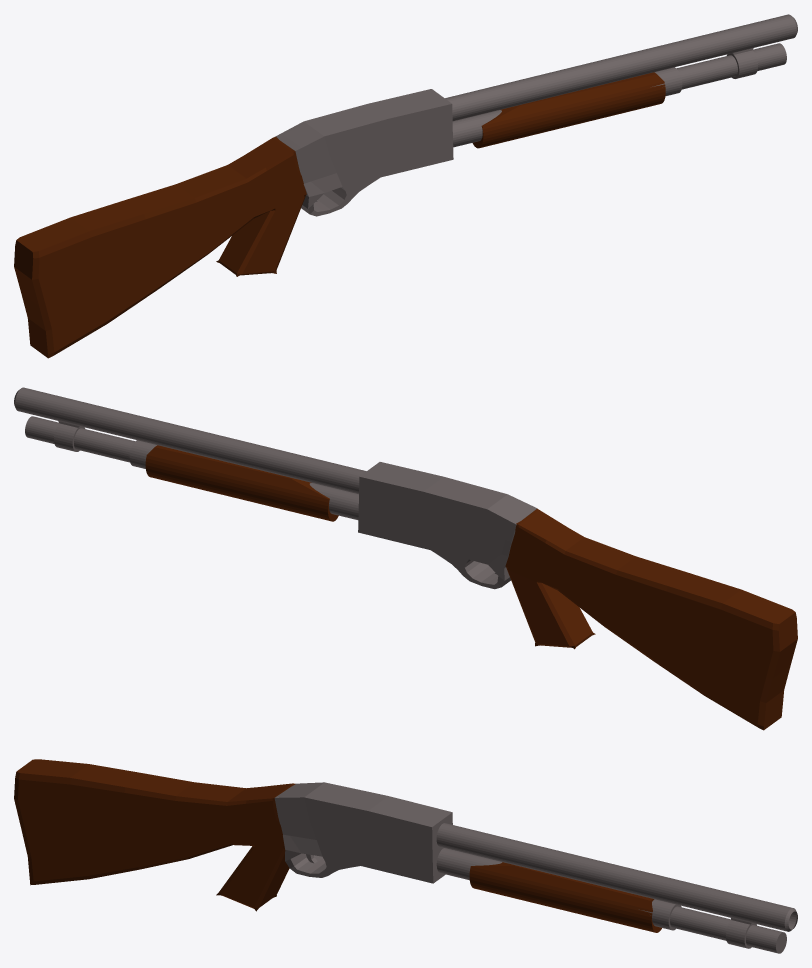
File: Shotgun.fbx
3 renders of one model, top to bottom at view 1: azimuth 30°, elevation 25°; view 2: azimuth 150°, elevation 25°; view 3: azimuth 330°, elevation 25°, orthographic.
Visible parts, largest first — view 1: Cube, Cylinder, Cube.001; view 2: Cube, Cylinder, Cube.001; view 3: Cube, Cylinder, Cube.001.
Boxes of the visible parts, x1,y1,x2,y2 form: Cube: (14,137,306,358); Cylinder: (445,14,797,148); Cube.001: (275,89,453,216); Cube: (505,508,797,730); Cylinder: (14,387,366,521); Cube.001: (358,462,536,589); Cube: (14,759,295,911); Cylinder: (436,823,797,953); Cube.001: (274,782,452,883).
Bounding box in the file's own units: 478 × 93.46 × 24.36.
